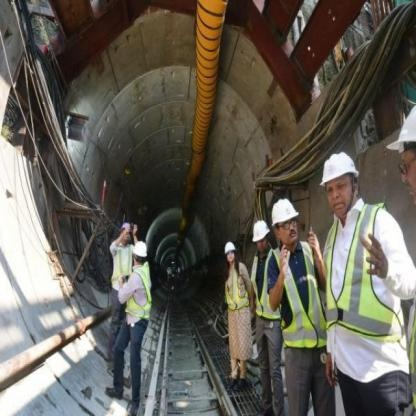vest: (318, 197, 409, 344), (273, 234, 327, 356), (251, 244, 279, 325), (126, 262, 157, 318), (225, 260, 249, 313), (111, 242, 135, 285)
white: (318, 147, 364, 190), (270, 194, 302, 225), (251, 216, 273, 242), (132, 237, 150, 258), (224, 238, 238, 253)
